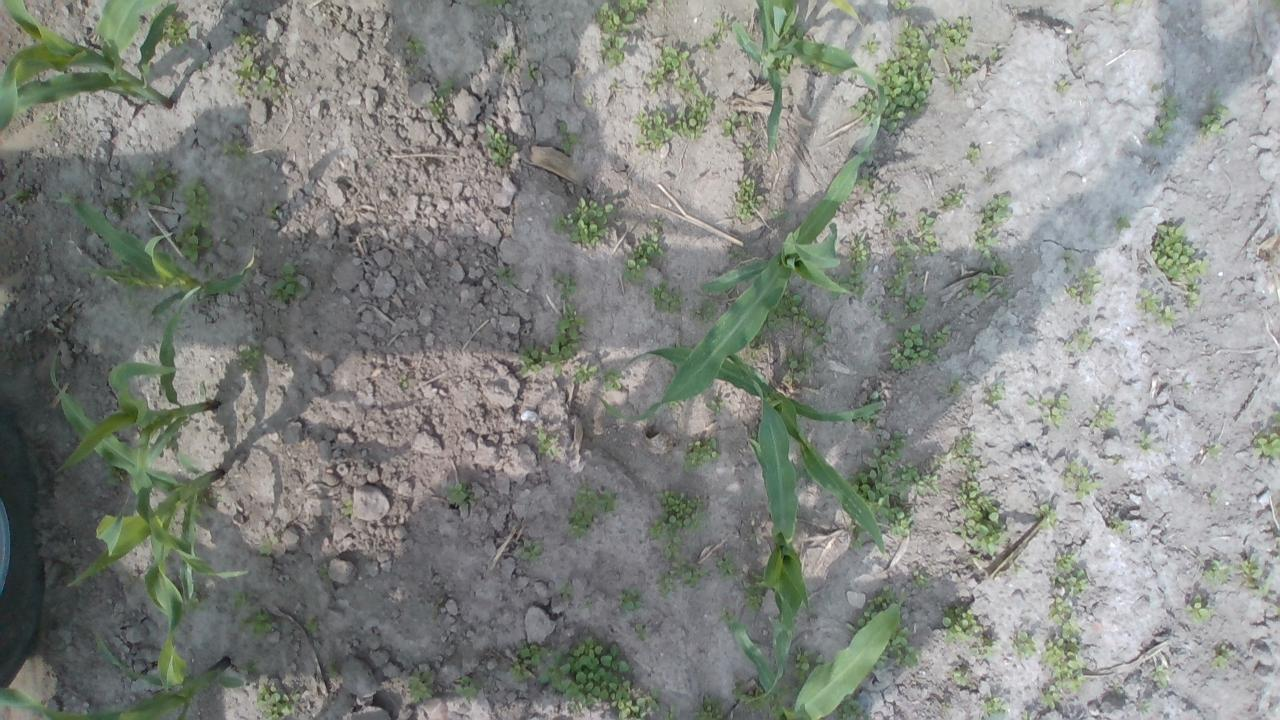Maize: (603, 72, 889, 428), (44, 341, 225, 708), (48, 287, 248, 579), (624, 343, 889, 557), (62, 188, 244, 408), (740, 375, 810, 712), (731, 0, 879, 159), (0, 0, 181, 129), (734, 600, 902, 720), (0, 642, 239, 720)
Weeds: (849, 20, 939, 139), (846, 430, 940, 540), (537, 636, 660, 720), (649, 485, 710, 594), (517, 304, 586, 378), (750, 292, 834, 346), (954, 480, 1010, 560), (634, 97, 714, 148), (593, 0, 651, 67), (1150, 224, 1210, 286), (175, 179, 217, 264), (552, 195, 616, 248), (826, 232, 870, 304), (941, 604, 997, 660), (565, 483, 619, 541), (621, 218, 666, 287), (888, 324, 951, 369), (646, 46, 702, 96), (846, 586, 896, 638), (974, 194, 1014, 258), (1043, 636, 1088, 692), (231, 26, 259, 97), (254, 677, 300, 720), (129, 162, 176, 204), (874, 627, 919, 668), (1061, 458, 1103, 500), (509, 640, 547, 686), (931, 12, 974, 52), (1066, 264, 1106, 306), (886, 239, 915, 296), (268, 262, 307, 304), (1136, 287, 1176, 326), (418, 80, 456, 121), (484, 124, 520, 167), (1200, 90, 1232, 138), (1146, 96, 1178, 144), (1051, 554, 1088, 594), (792, 646, 830, 684), (776, 351, 816, 386), (1047, 596, 1081, 636), (735, 174, 762, 224), (681, 436, 717, 472), (1240, 558, 1273, 596), (650, 280, 686, 314), (240, 606, 274, 640), (1040, 392, 1070, 430), (254, 63, 286, 97), (954, 431, 980, 472), (738, 578, 766, 616), (916, 212, 940, 256), (946, 59, 978, 91), (238, 342, 267, 376), (406, 668, 433, 704), (1184, 594, 1216, 624), (222, 141, 250, 175), (450, 674, 481, 704), (702, 15, 728, 50), (833, 694, 868, 720), (1250, 430, 1280, 460), (558, 120, 584, 154), (162, 16, 191, 46), (692, 695, 726, 720), (722, 110, 754, 136), (535, 427, 563, 456), (552, 269, 579, 299), (1205, 558, 1233, 586), (904, 292, 930, 322), (517, 535, 545, 562), (980, 695, 1009, 720), (1014, 630, 1039, 658), (713, 552, 738, 580), (756, 698, 786, 720), (124, 282, 145, 313), (872, 302, 898, 327), (616, 591, 644, 614), (1066, 329, 1092, 352), (693, 300, 720, 322), (969, 270, 990, 298), (446, 484, 473, 505), (1040, 685, 1062, 710), (403, 36, 428, 58), (1212, 644, 1234, 668), (1090, 408, 1114, 430), (496, 266, 520, 288), (600, 367, 622, 391), (230, 589, 255, 610), (1036, 503, 1056, 529), (778, 680, 798, 706), (574, 360, 596, 383), (1106, 514, 1130, 535), (502, 47, 520, 74), (1187, 285, 1202, 317), (106, 196, 131, 215), (259, 534, 280, 556), (940, 190, 964, 209), (104, 464, 126, 484), (1150, 665, 1168, 688), (986, 383, 1006, 403), (185, 592, 207, 610), (239, 654, 258, 673), (720, 609, 739, 628), (944, 376, 962, 396), (854, 174, 874, 192), (777, 55, 795, 75), (988, 259, 1009, 276), (769, 208, 793, 222), (852, 412, 879, 424), (1114, 214, 1132, 232), (707, 397, 727, 413), (912, 569, 928, 589), (39, 111, 55, 131), (859, 389, 880, 404), (1138, 431, 1152, 453), (951, 670, 968, 688), (158, 306, 177, 322), (9, 190, 29, 205), (303, 617, 321, 633), (560, 582, 576, 600), (788, 26, 808, 40), (634, 622, 649, 640), (164, 431, 179, 449), (734, 250, 756, 262), (474, 0, 506, 8), (1206, 442, 1224, 456), (526, 62, 540, 80), (1055, 78, 1070, 94), (892, 0, 912, 12), (342, 497, 354, 516), (886, 214, 901, 229), (264, 201, 278, 217), (1063, 250, 1076, 266), (879, 191, 896, 203), (663, 703, 675, 720), (998, 286, 1011, 301), (211, 490, 226, 503), (966, 145, 978, 160), (742, 142, 752, 160), (1112, 0, 1132, 9), (1207, 490, 1219, 503), (214, 236, 228, 247), (1182, 376, 1193, 389), (197, 59, 209, 70), (990, 47, 1000, 60), (1270, 411, 1280, 423), (895, 598, 905, 610), (584, 96, 594, 107), (1151, 82, 1162, 92), (319, 567, 329, 577), (1271, 604, 1280, 614), (1112, 456, 1120, 465), (149, 11, 158, 19), (1026, 399, 1035, 406), (1024, 713, 1030, 720), (331, 670, 336, 678)
